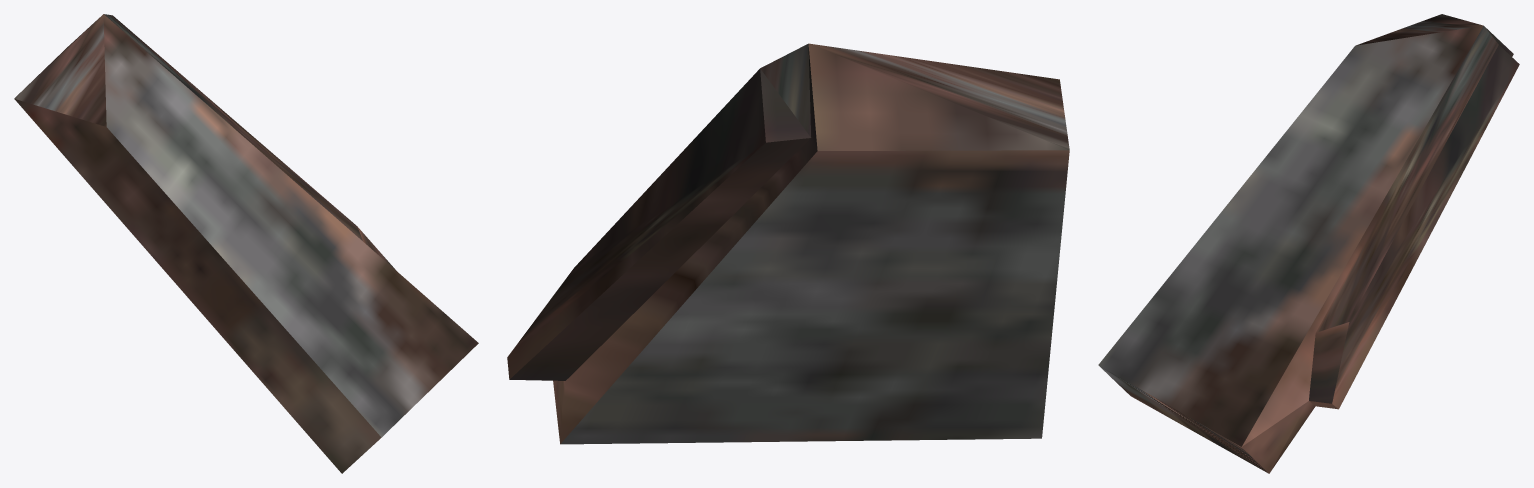
Rendered from debris_tradefed_hulk_radial_s02_l3.fbx.
3 renders of one model, left to right at view 1: azimuth 30°, elevation 25°; view 2: azimuth 150°, elevation 25°; view 3: azimuth 270°, elevation 25°, orthographic. The views are drawn at different scales.
Parts seen in each view (by area): view 1: mesh_node; view 2: mesh_node; view 3: mesh_node.
Part boxes in pixels (x1=…): mesh_node: x1=14, y1=14, x2=478, y2=473; mesh_node: x1=507, y1=43, x2=1069, y2=444; mesh_node: x1=1098, y1=14, x2=1519, y2=473.
Bounding box in the file's own units: 1.27 × 1.15 × 1.29.
1 material, 1 textured.
